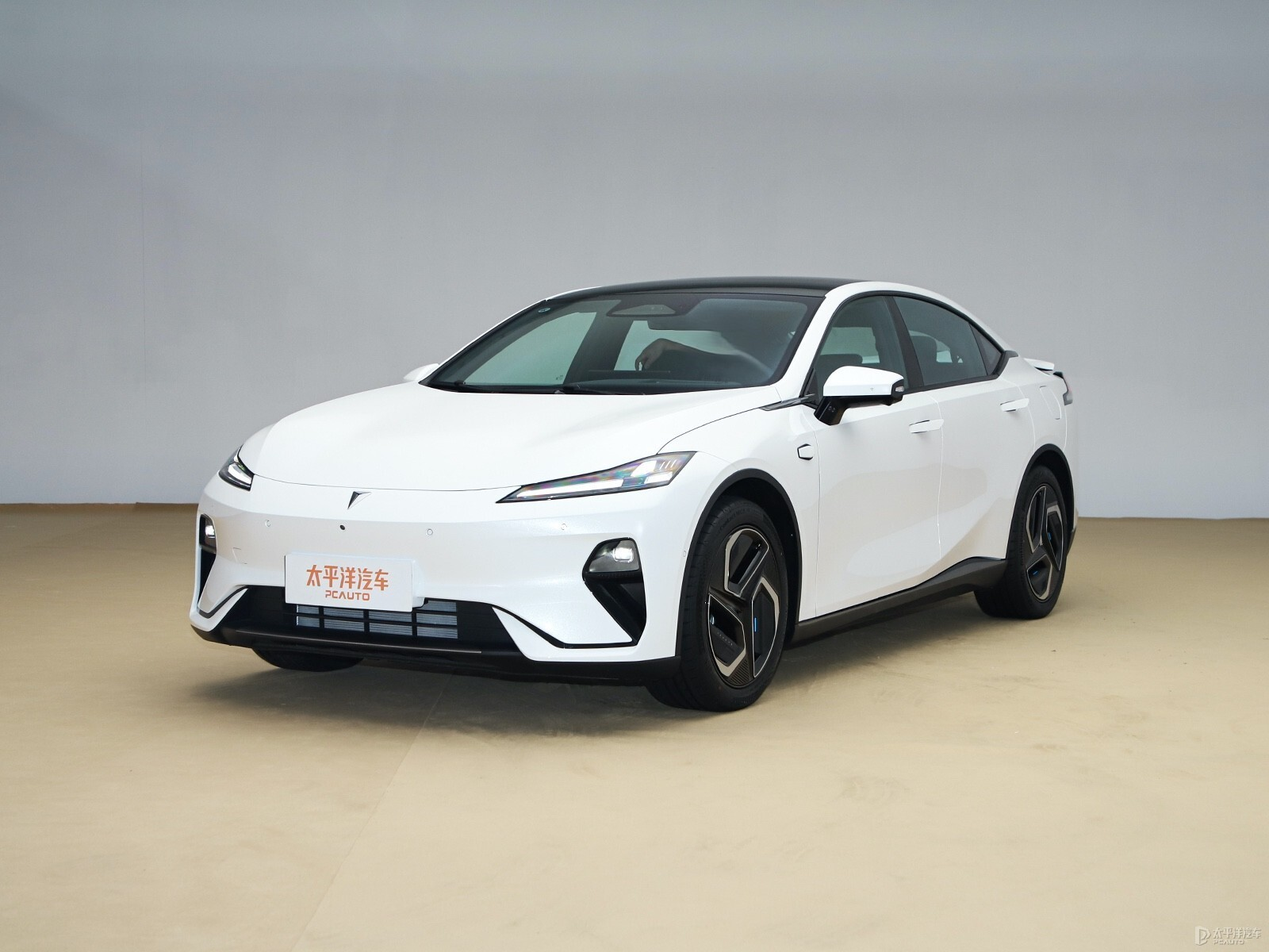Deepal: (347, 491, 371, 509)
